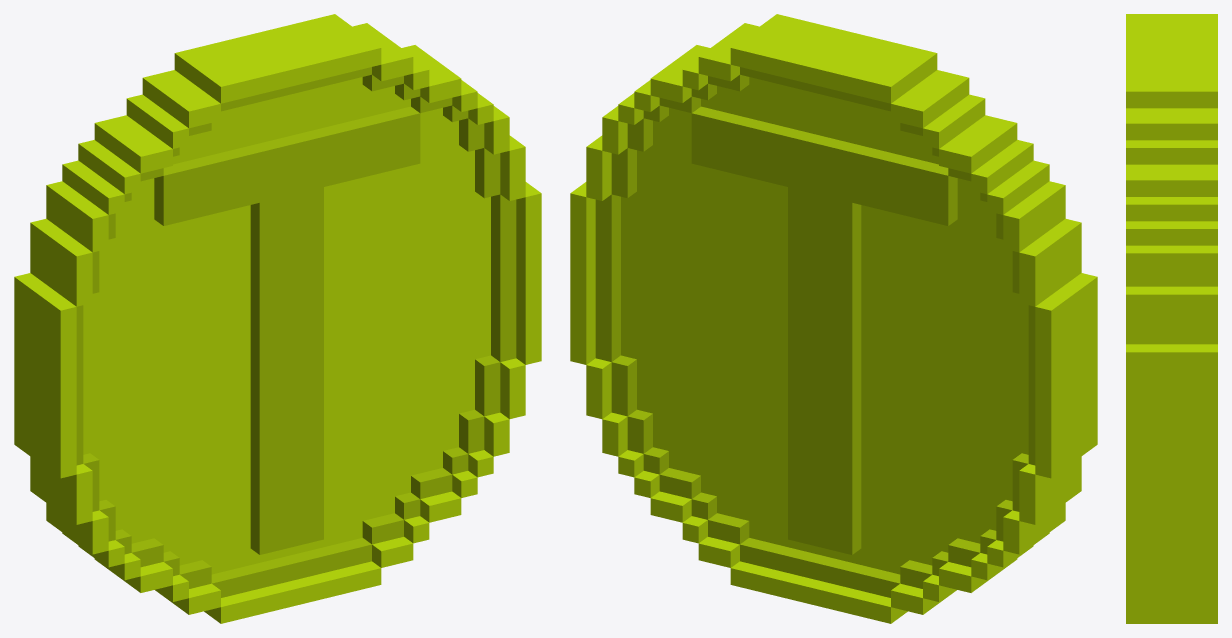
File: Coin_T.fbx
The picture shows the model from 3 angles, left to right: view 1: azimuth 30°, elevation 25°; view 2: azimuth 150°, elevation 25°; view 3: azimuth 270°, elevation 25°; orthographic projection.
Visible parts, largest first — view 1: Coin T; view 2: Coin T; view 3: Coin T.
Part boxes in pixels (bbox=[...]): Coin T: bbox=[14, 14, 541, 623]; Coin T: bbox=[570, 14, 1097, 623]; Coin T: bbox=[1126, 14, 1217, 623].
Bounding box in the file's own units: 3000 × 3200 × 500.
